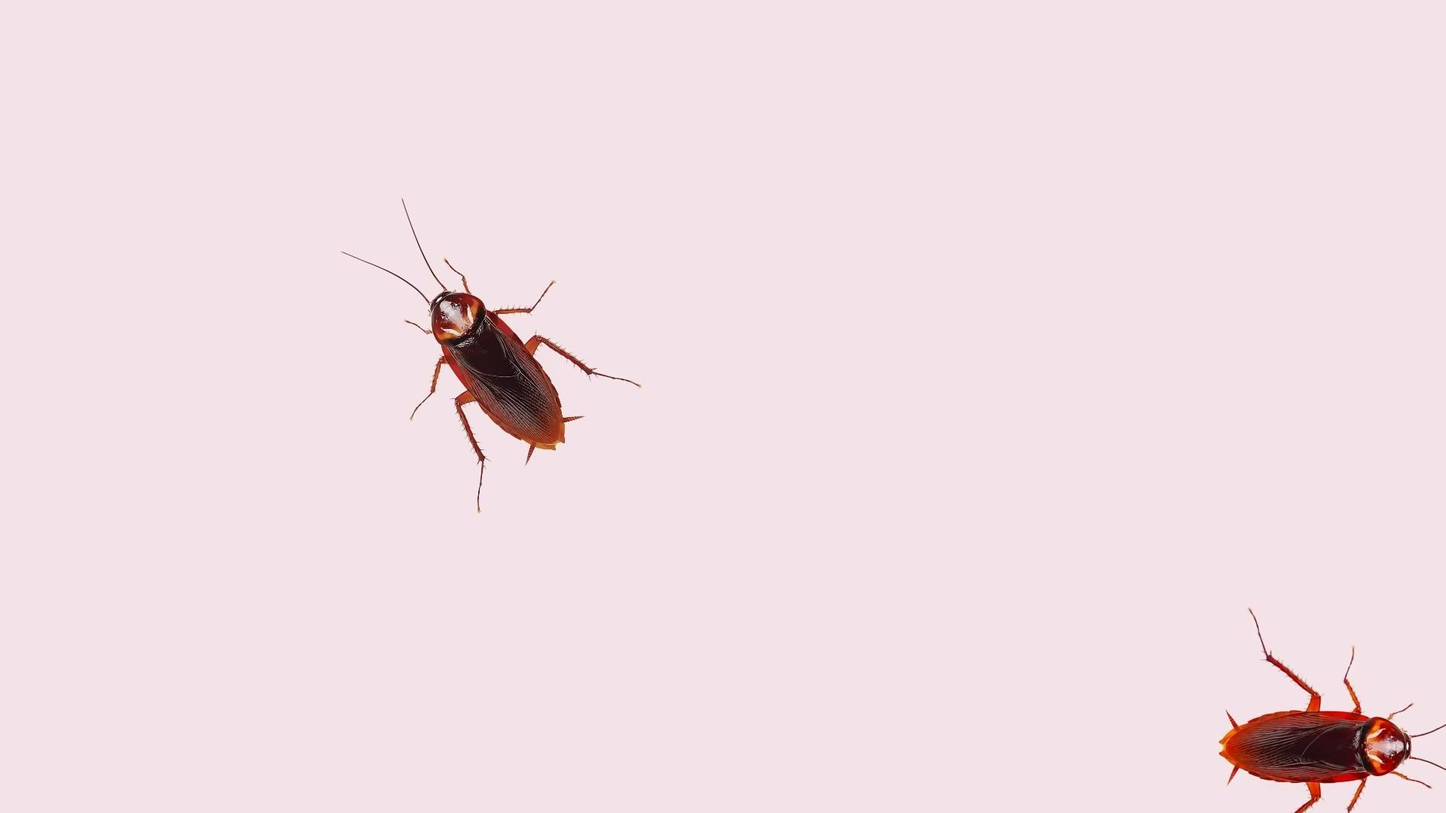cockroach: (327, 207, 665, 519), (1181, 603, 1446, 813)
